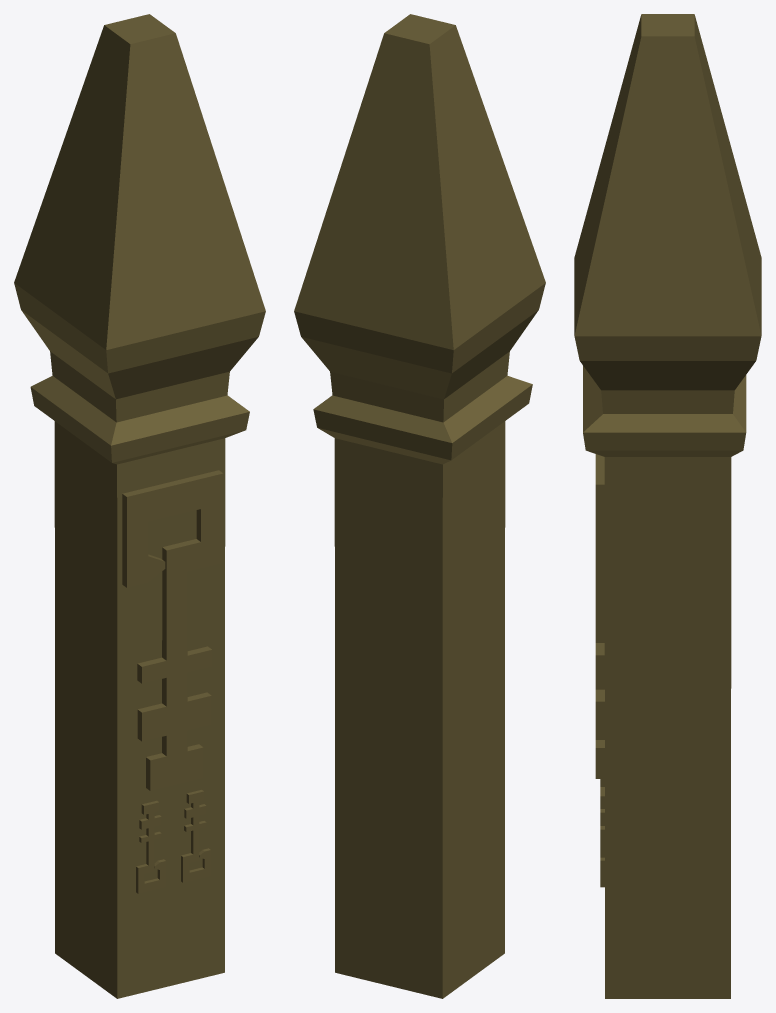
File: aztec-pillar.lod2.glb
3 views of the same model, side by side, from view 1: azimuth 30°, elevation 25°; view 2: azimuth 150°, elevation 25°; view 3: azimuth 270°, elevation 25° (orthographic).
Parts seen in each view (by area): view 1: Pillars Walk Way_Atlas Material_0; view 2: Pillars Walk Way_Atlas Material_0; view 3: Pillars Walk Way_Atlas Material_0.
Boxes of the visible parts, <box> form: Pillars Walk Way_Atlas Material_0: <box>14,14,265,998</box>; Pillars Walk Way_Atlas Material_0: <box>294,14,545,998</box>; Pillars Walk Way_Atlas Material_0: <box>574,14,761,998</box>.
Bounding box in the file's own units: 0.8053 × 4.5 × 0.8053.
